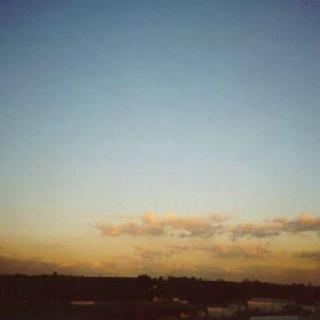Stratocumulus: (0, 210, 320, 274)
